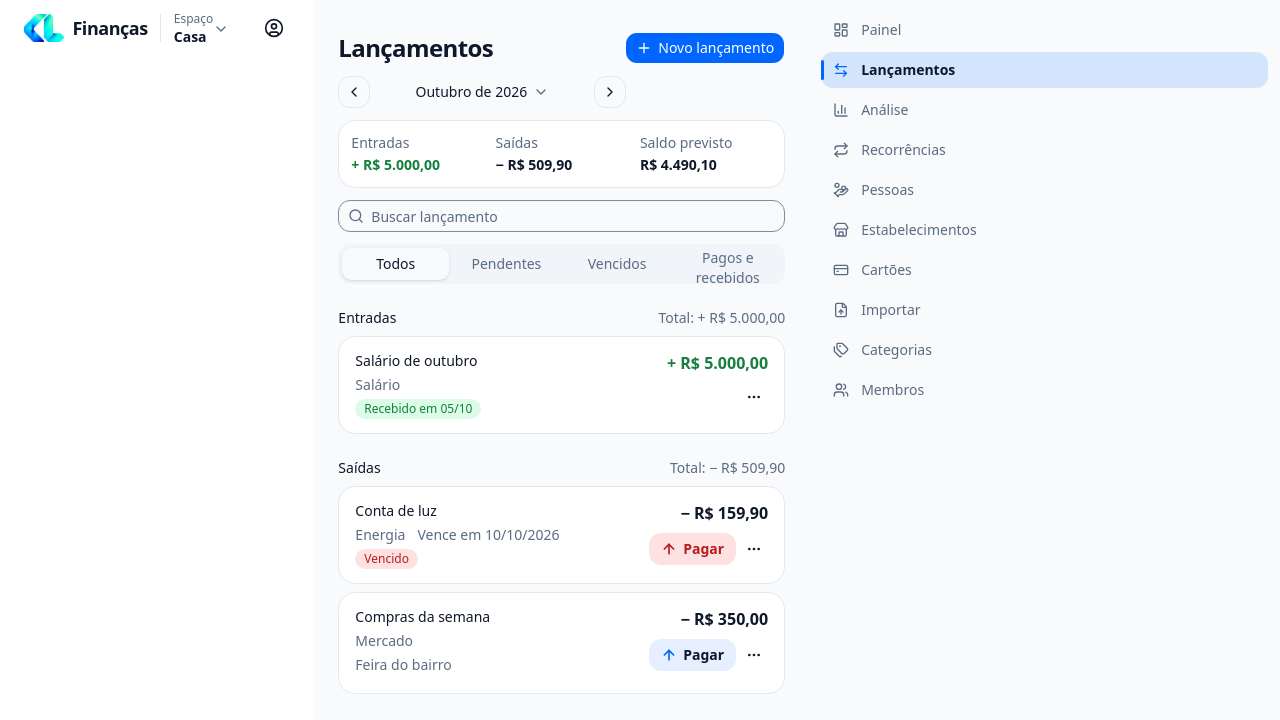
Test case: TransactionsPage › finds a transaction by its notes and by part of its amount
Type "feira" into the search field labelled "Buscar lançamento" at (562, 216), box [338,200,785,232]
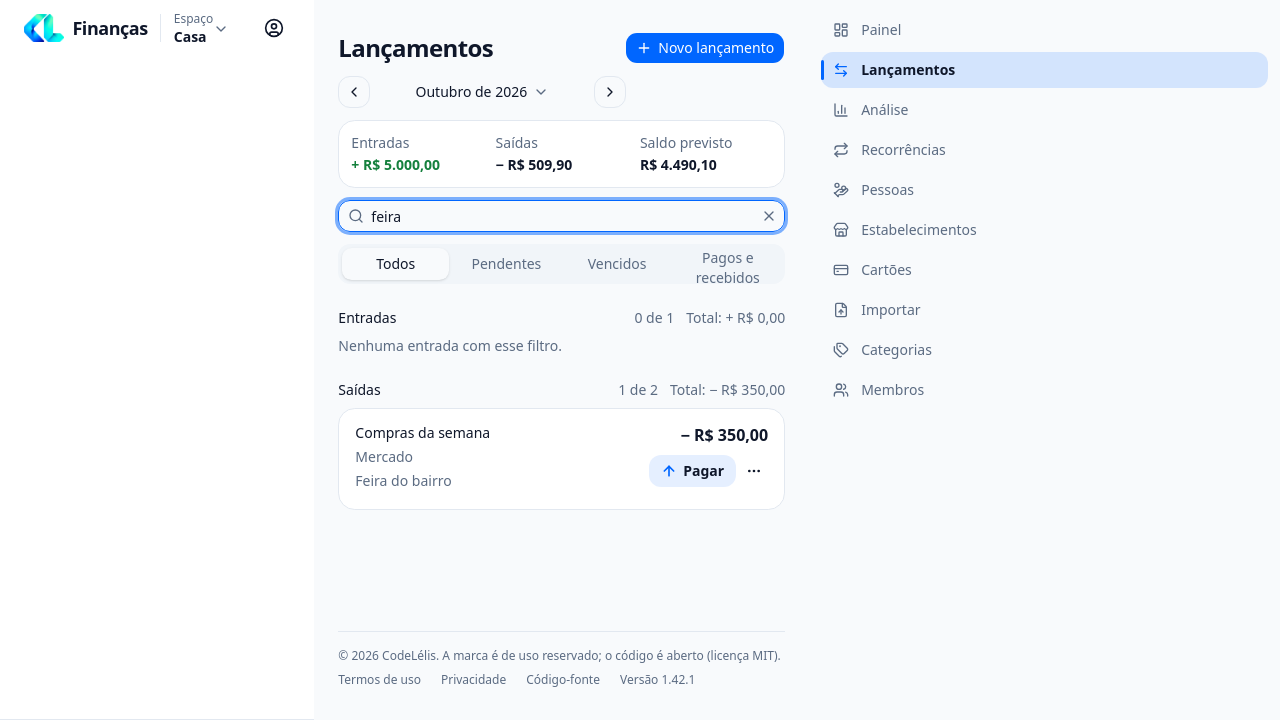
Expected: the list item "Compras da semana Mercado Feira do bairro − R$ 350,00 Pagar" is shown, [338,408,785,510]
Expected: the text "Conta de luz" is gone
# Part of the amount as written, with or without "R$": R$ 159,90.
Replace the text in the search field named "Buscar lançamento" with "R$ 159,9" at (562, 216), box [338,200,785,232]
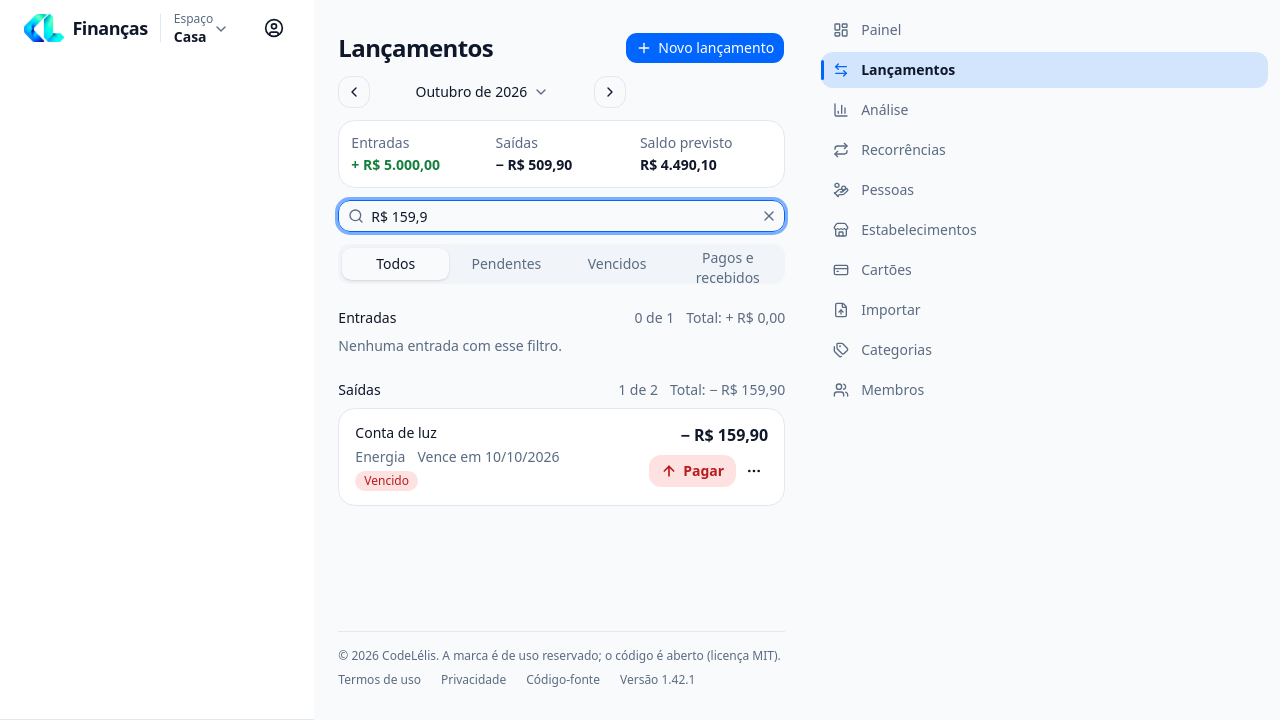
Expected: the list item that starts with "Conta de luz" is shown, [338,408,785,506]
Expected: the element "Saídas" shows "Total: − R$ 159,90", [338,380,785,506]
